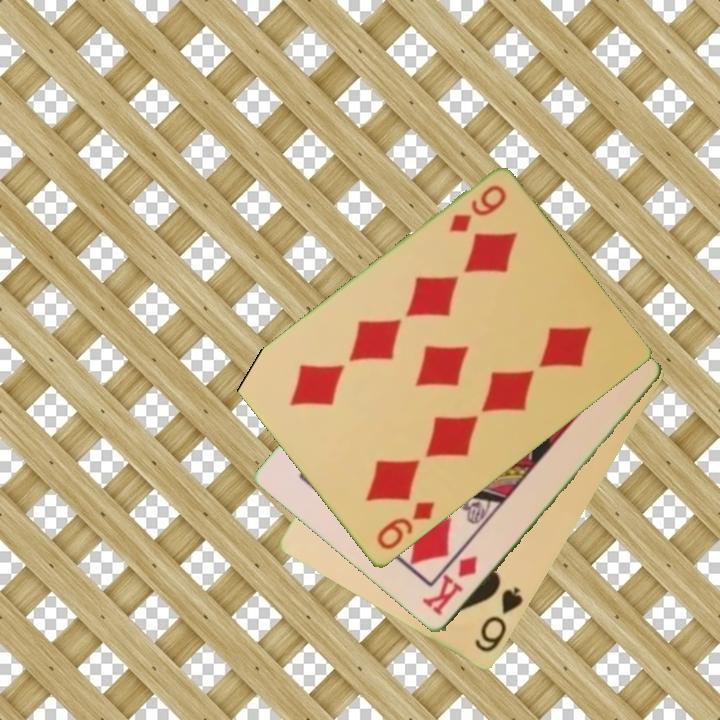6s: (471, 584, 527, 656)
9d: (373, 498, 438, 554), (445, 181, 510, 236)
Kd: (420, 552, 481, 619)
